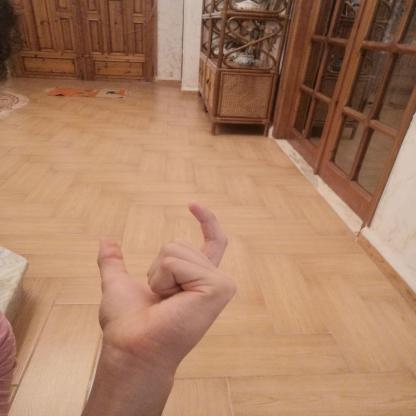NOON: (80, 193, 253, 374)
